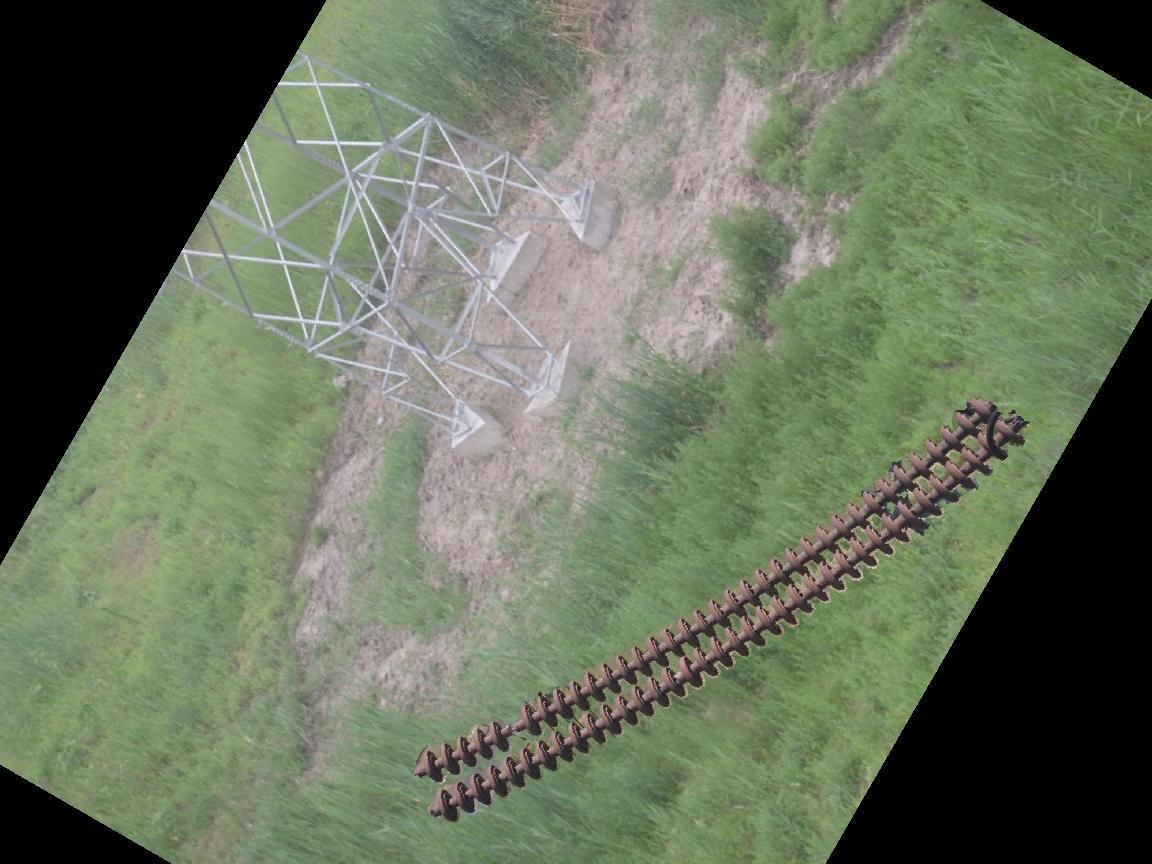insulator: (415, 391, 1026, 829)
insulator_stringdrop: (488, 701, 540, 755)
